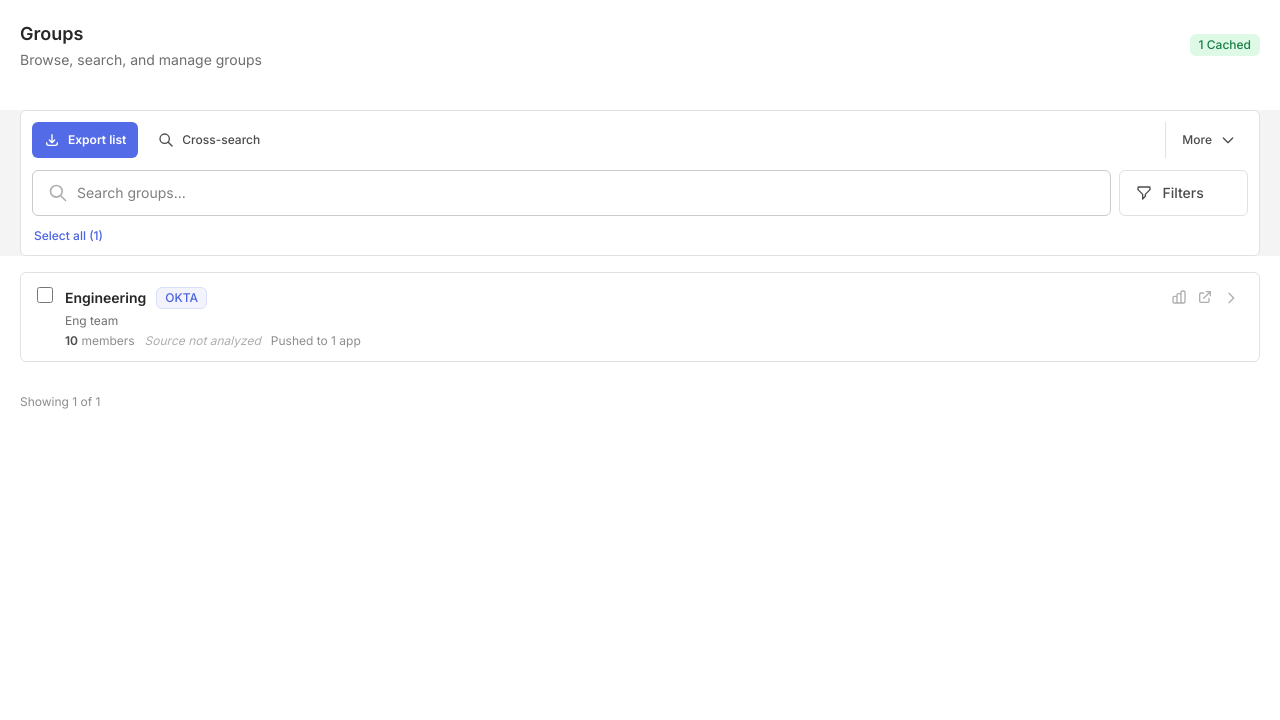
Test: GroupsTab sub-navigation › shows the group id, dates and push state in the detail view
Click the button named "Expand Engineering" at x=1231, y=298, box [1219,286,1243,310]
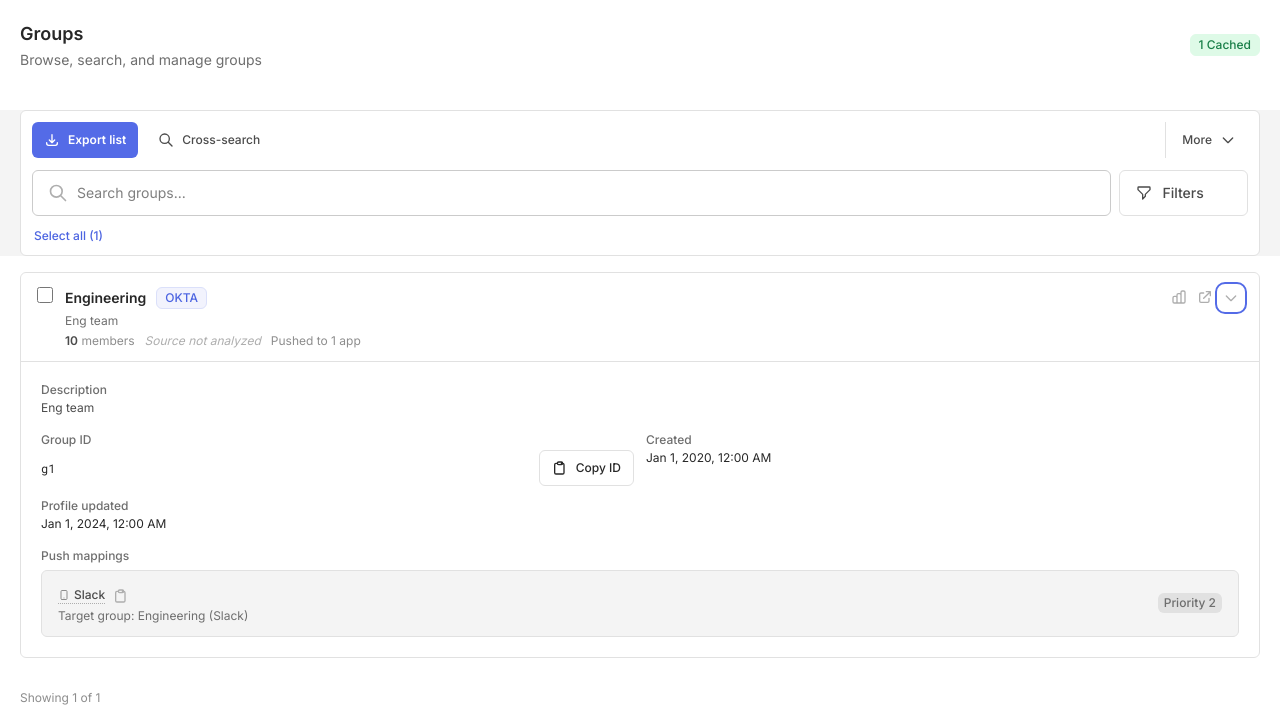
Click the button named "View group details" at x=640, y=317, box [21,273,1259,361]
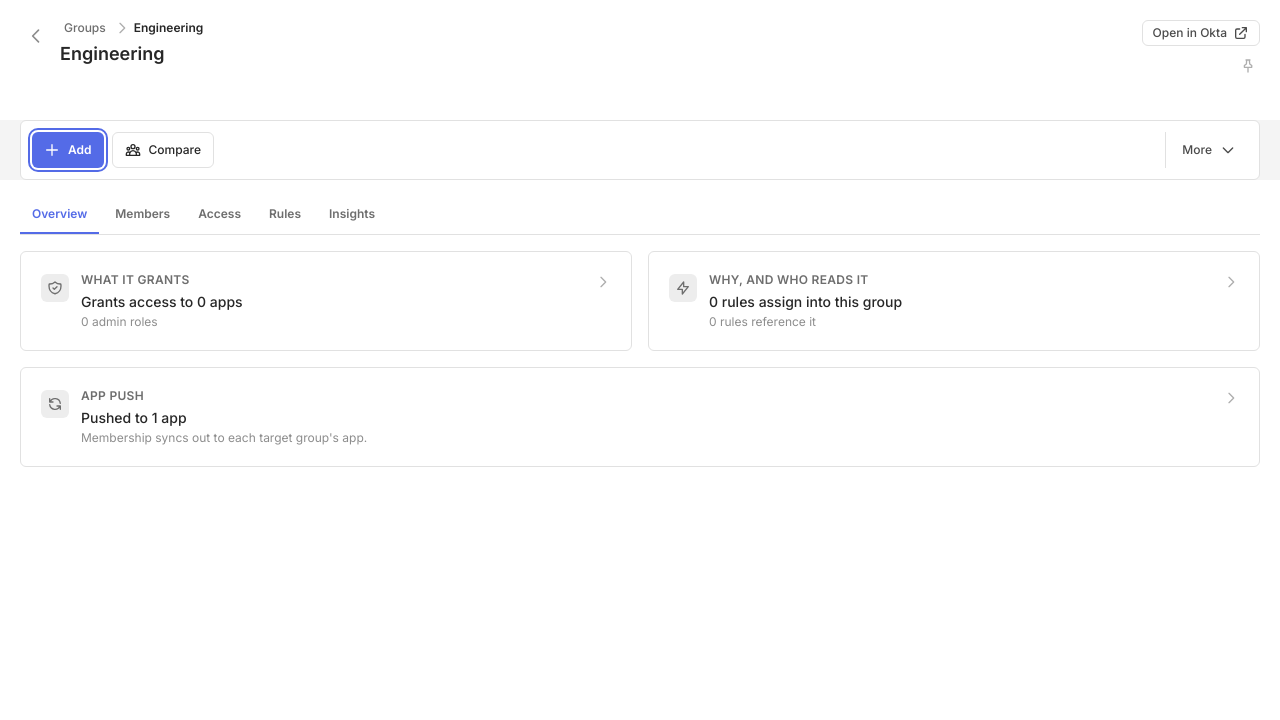
Click the tab "Insights" at x=352, y=215, box [317,196,387,234]
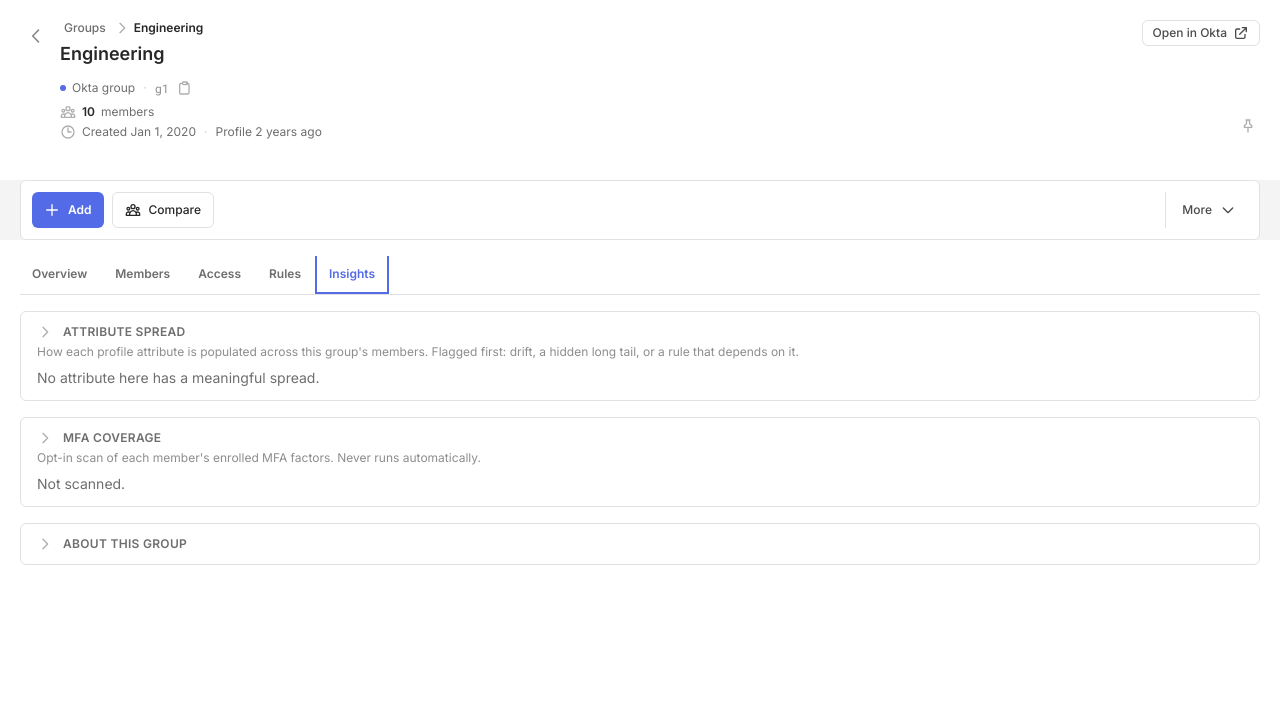
Click the tab "Access" at x=220, y=275, box [186,256,253,294]
(page scrolled)
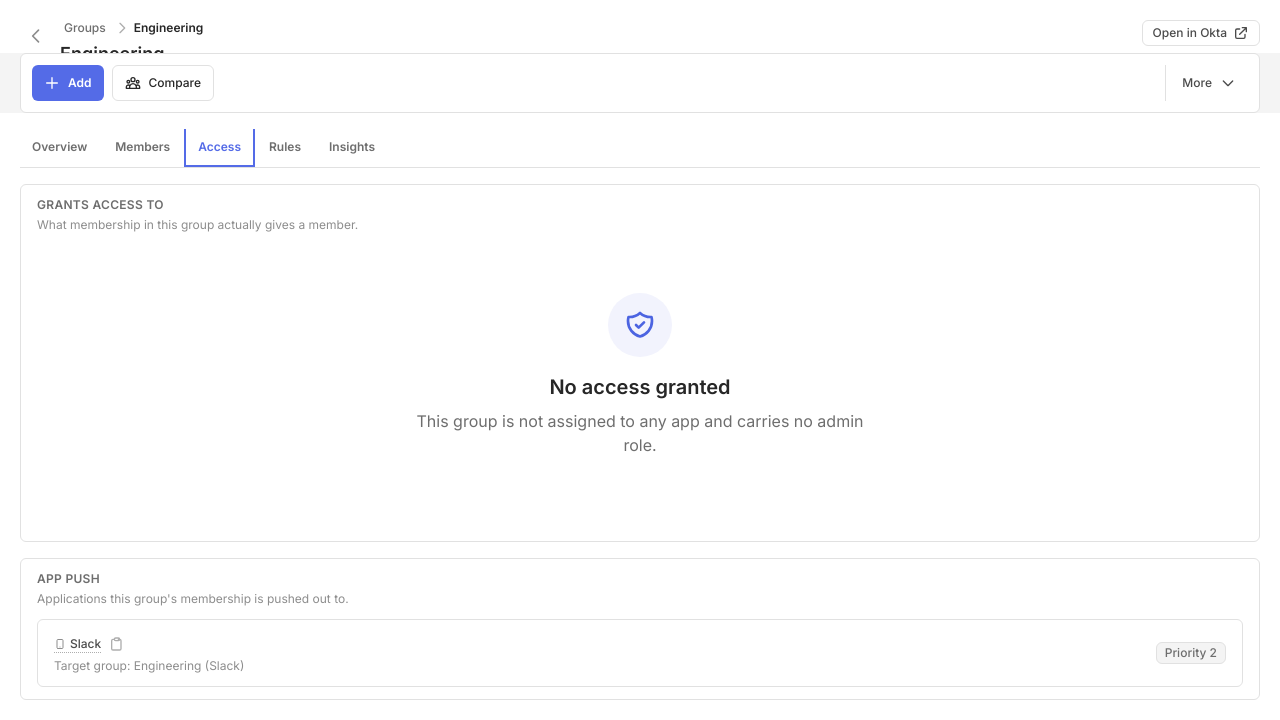
Now the text "Slack" is shown, box [70,636,101,652]
Now the text "Target group: Engineering (Slack)" is shown, box [54,658,244,674]
Now the text "Priority 2" is shown, box [1156,642,1226,664]
